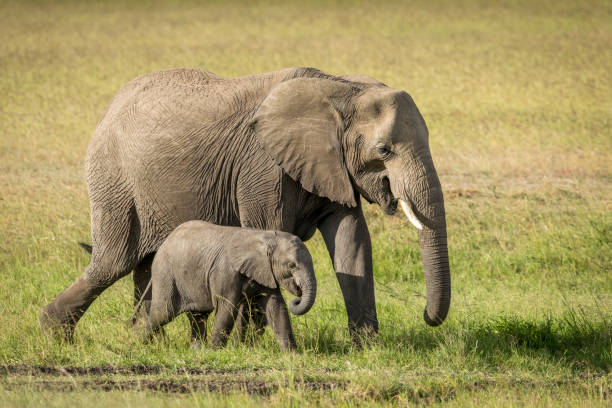africanelephant: (332, 95, 453, 239)
